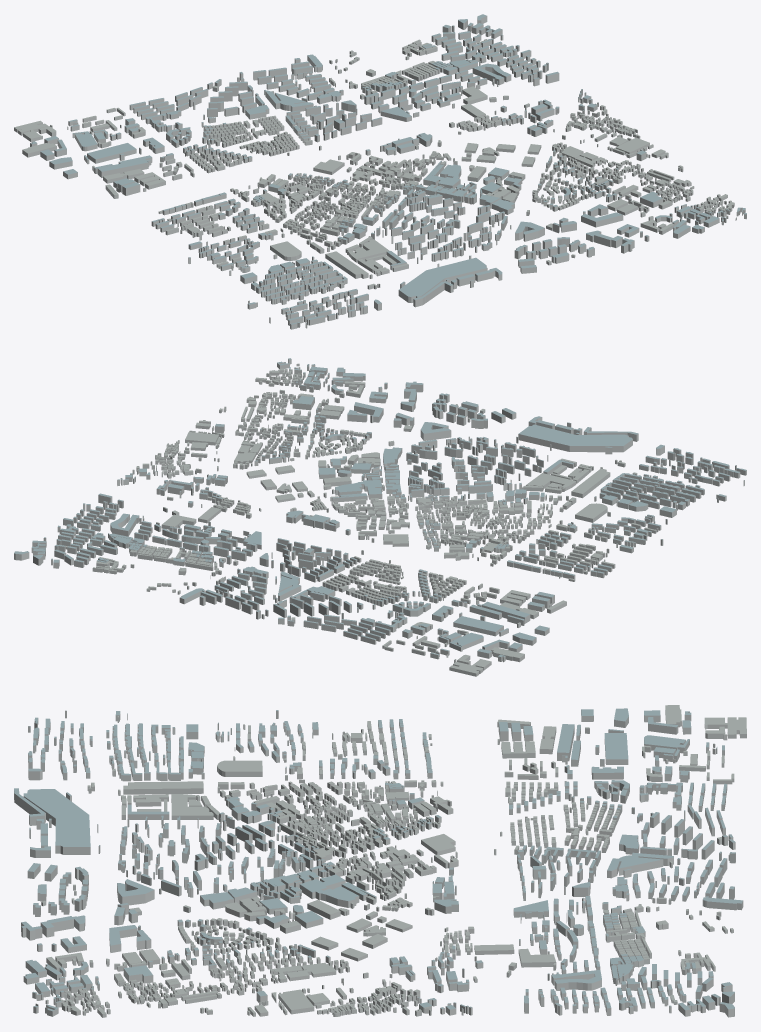
The model's file is far.glb.
3 renders of one model, top to bottom at view 1: azimuth 30°, elevation 25°; view 2: azimuth 150°, elevation 25°; view 3: azimuth 270°, elevation 25°, orthographic. The views are drawn at different scales.
Size of the model in its own units: 2162 by 38.2 by 2177.
